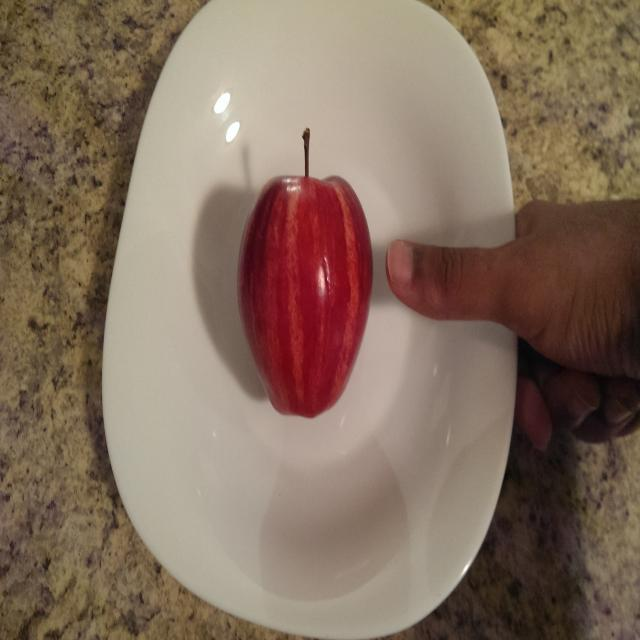apple: (230, 122, 376, 424)
